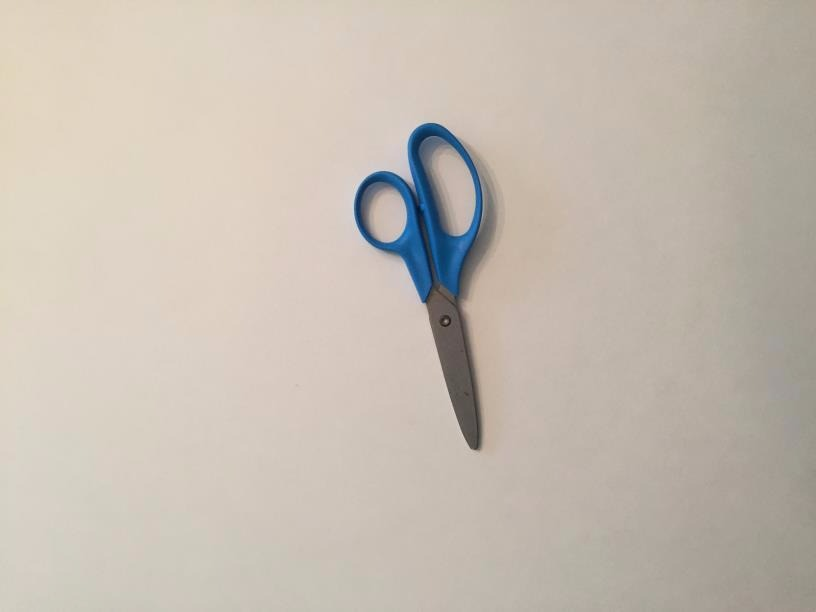scissor: (335, 100, 559, 473)
